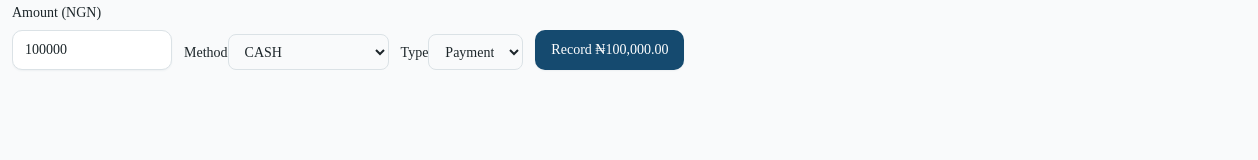
it: recording a payment that is refused › shows the server's own reason: Payment exceeds the outstanding balance 0. 10000000 is already awaiting approval on this invoice.
Replace the text in the field labelled "Amount (NGN)" with "100" at (92, 50), box [12,30,172,70]
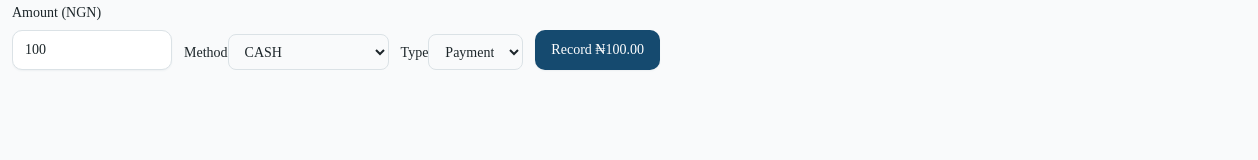
Click the button "Record ₦100.00".
click(598, 50)  # box [535,30,660,70]
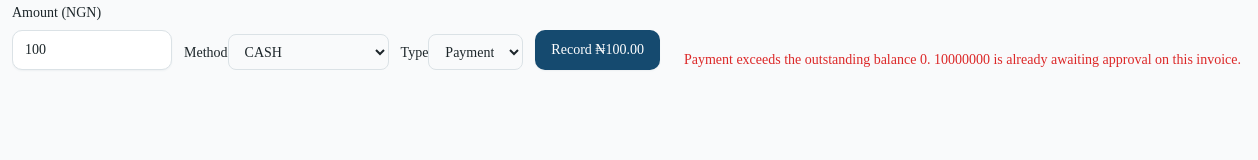
Expected: the text "Payment exceeds the outs" is shown, [684,52,1241,67]
